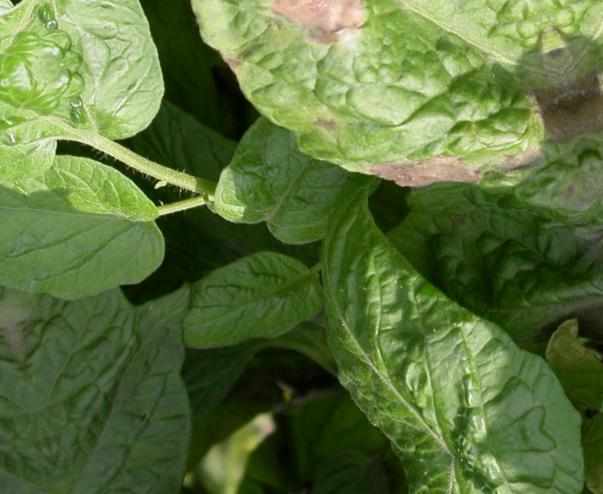Tomato leaf late blight: (166, 0, 603, 430), (0, 216, 244, 494)
